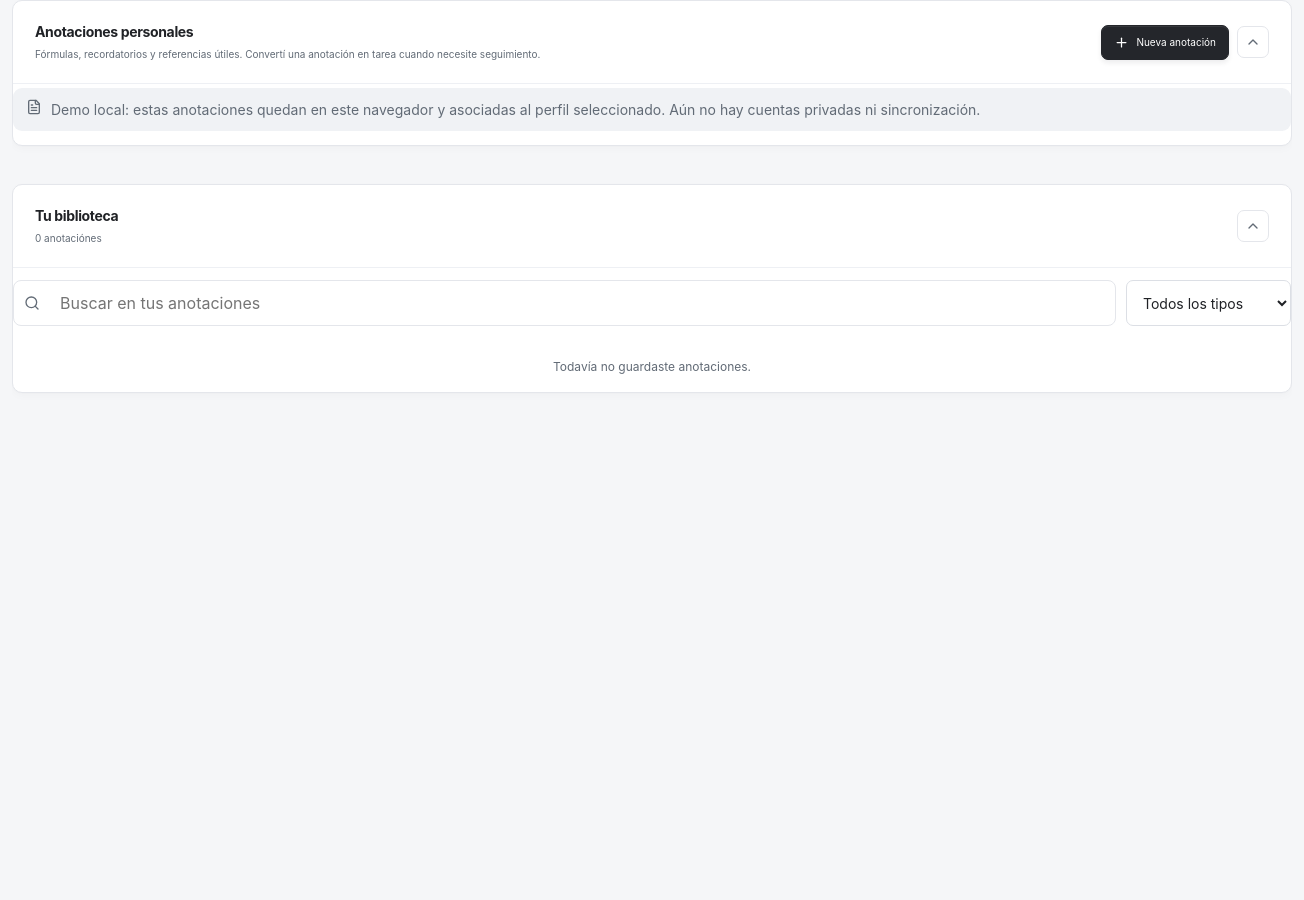
it: anotaciones personales › pliega el bloque y permite abrir el formulario desde el encabezado
Click the button named "Plegar Anotaciones personales": {"x": 1253, "y": 42} top-left (1237, 26), bottom-right (1269, 58)
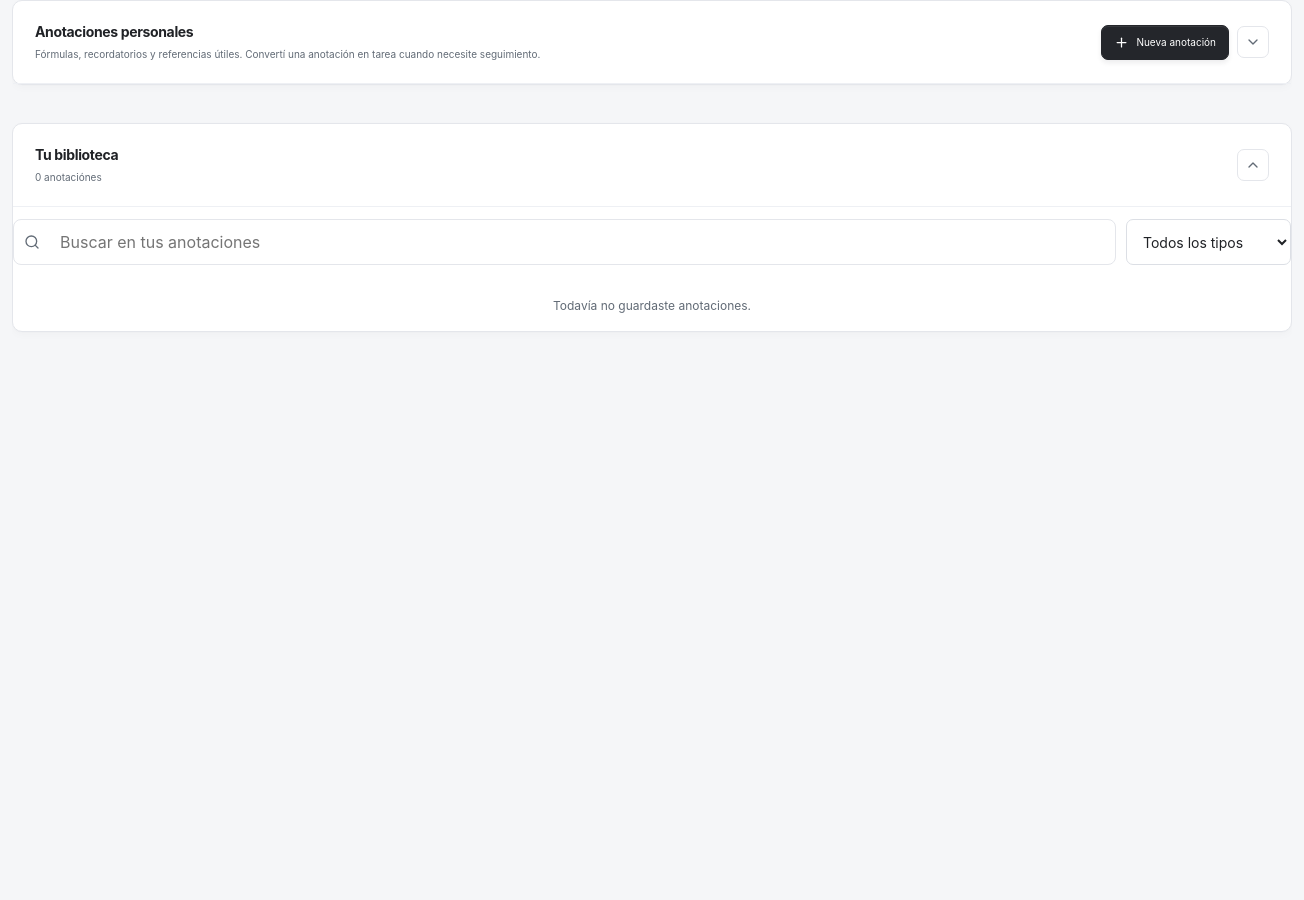
Click the button "Nueva anotación": {"x": 1165, "y": 42} top-left (1101, 24), bottom-right (1229, 60)
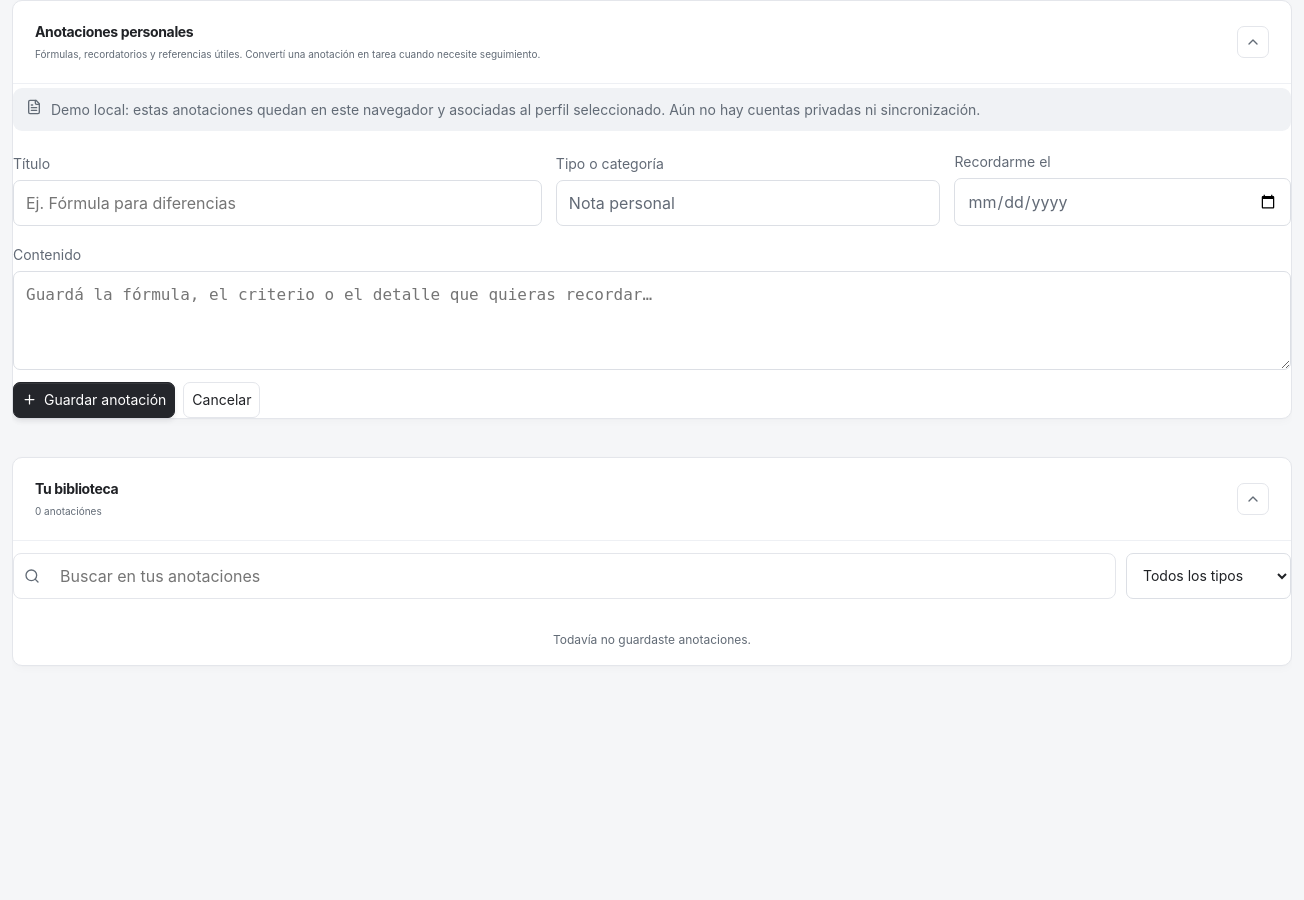
expect the field labelled "Título" is shown: met, box top-left (13, 180), bottom-right (542, 226)
